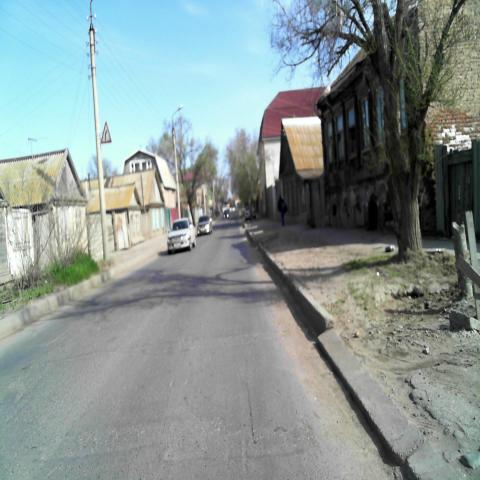1_11: (100, 120, 112, 143)
